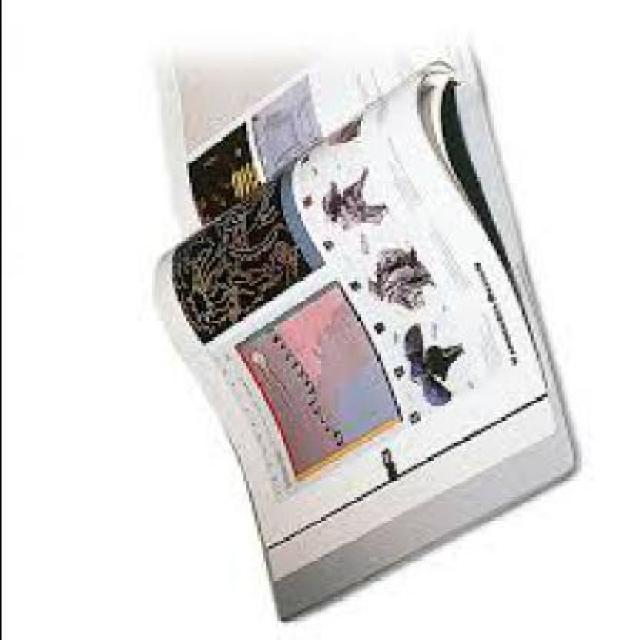PAPER: (148, 60, 577, 629), (151, 57, 572, 626), (152, 40, 478, 240)
